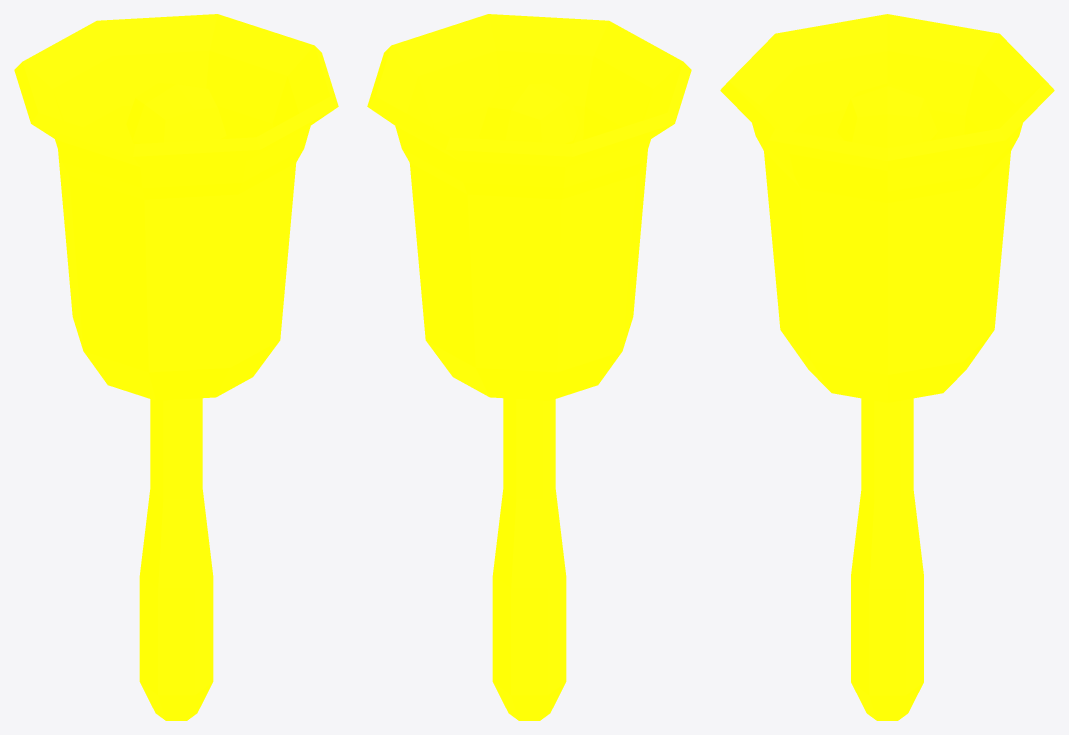
Rendered from bell-d-christmas.glb.
3 renders of one model, left to right at view 1: azimuth 30°, elevation 25°; view 2: azimuth 150°, elevation 25°; view 3: azimuth 270°, elevation 25°, orthographic.
Visible parts, largest first — view 1: bell_d_christmas; view 2: bell_d_christmas; view 3: bell_d_christmas.
Boxes of the visible parts, box(x1,y1,x2,y2) form: bell_d_christmas: box(14, 14, 338, 720); bell_d_christmas: box(367, 14, 691, 720); bell_d_christmas: box(720, 14, 1054, 720).
Size of the model in its own units: 0.1378 by 0.287 by 0.1378.
1 material, 1 textured.
